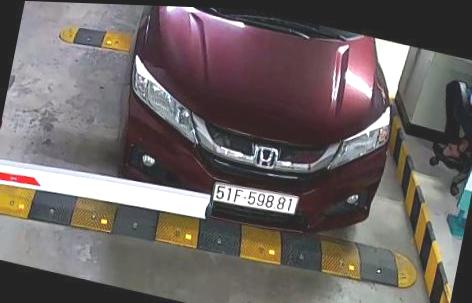License_Plate: (203, 178, 304, 223)
